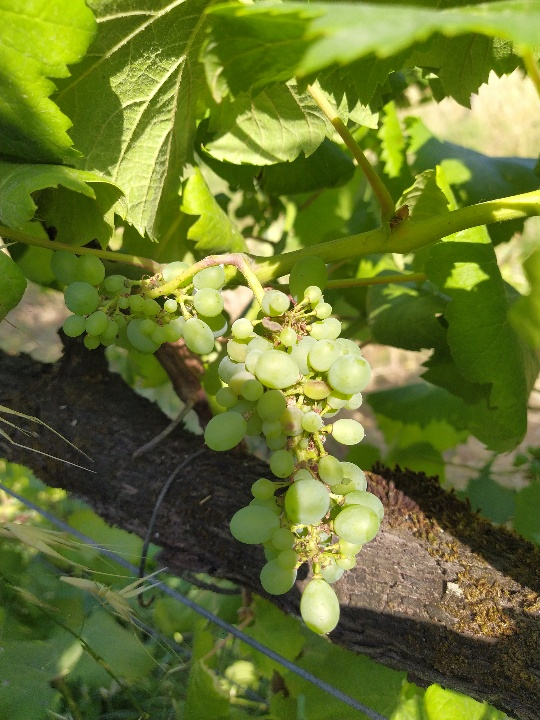grape: (43, 246, 390, 640)
